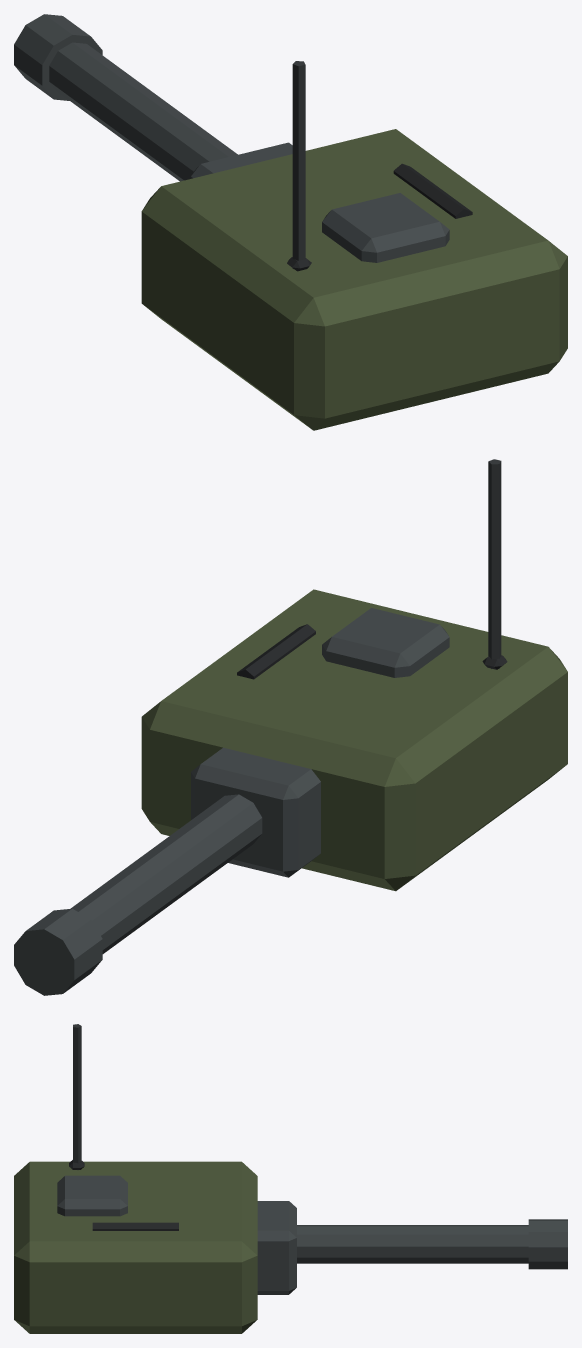
Rendered from tank_turret.glb.
3 views of the same model, one above another, from view 1: azimuth 30°, elevation 25°; view 2: azimuth 150°, elevation 25°; view 3: azimuth 270°, elevation 25° (orthographic). The views are drawn at different scales.
Parts seen in each view (by area): view 1: tank_turret; view 2: tank_turret; view 3: tank_turret.
Part boxes in pixels (<box>): tank_turret: <box>14,14,567,430</box>; tank_turret: <box>14,459,567,995</box>; tank_turret: <box>14,1024,567,1333</box>.
Size of the model in its own units: 0.56 by 0.66 by 1.41.
1 material, 1 textured.
